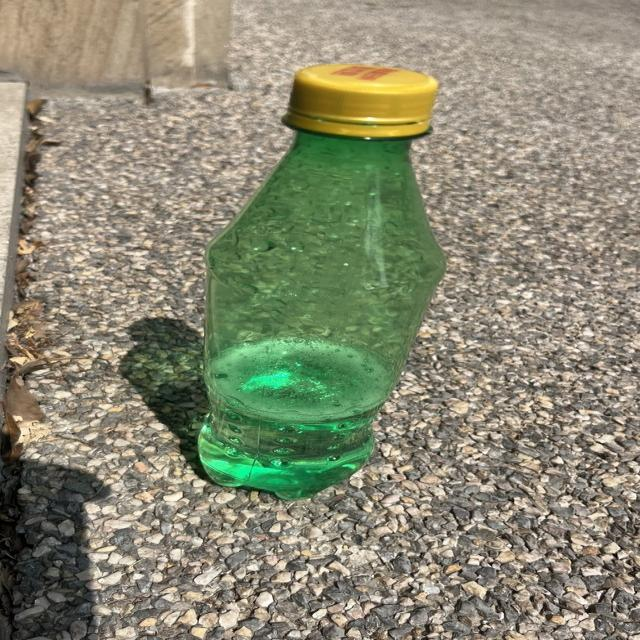medium: (200, 63, 443, 499)
